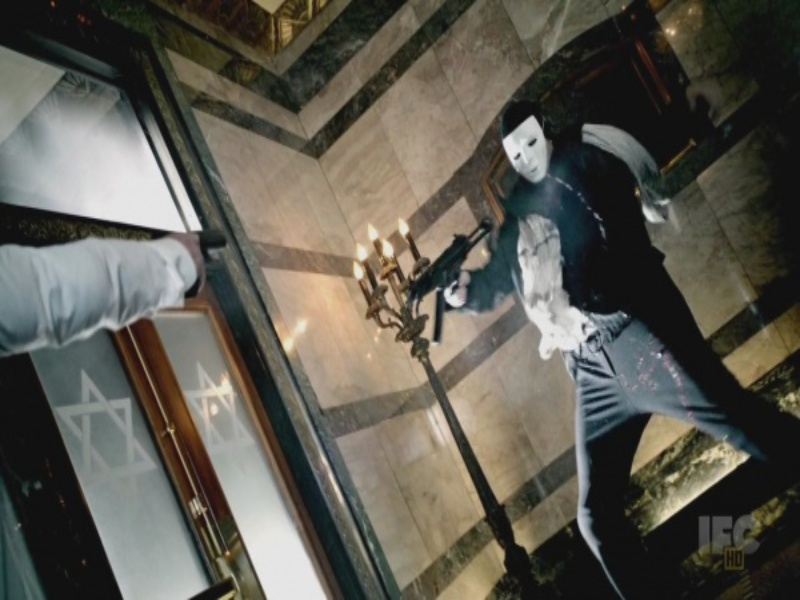person: (439, 98, 796, 595)
weapon: (401, 219, 493, 355), (164, 232, 229, 297)
